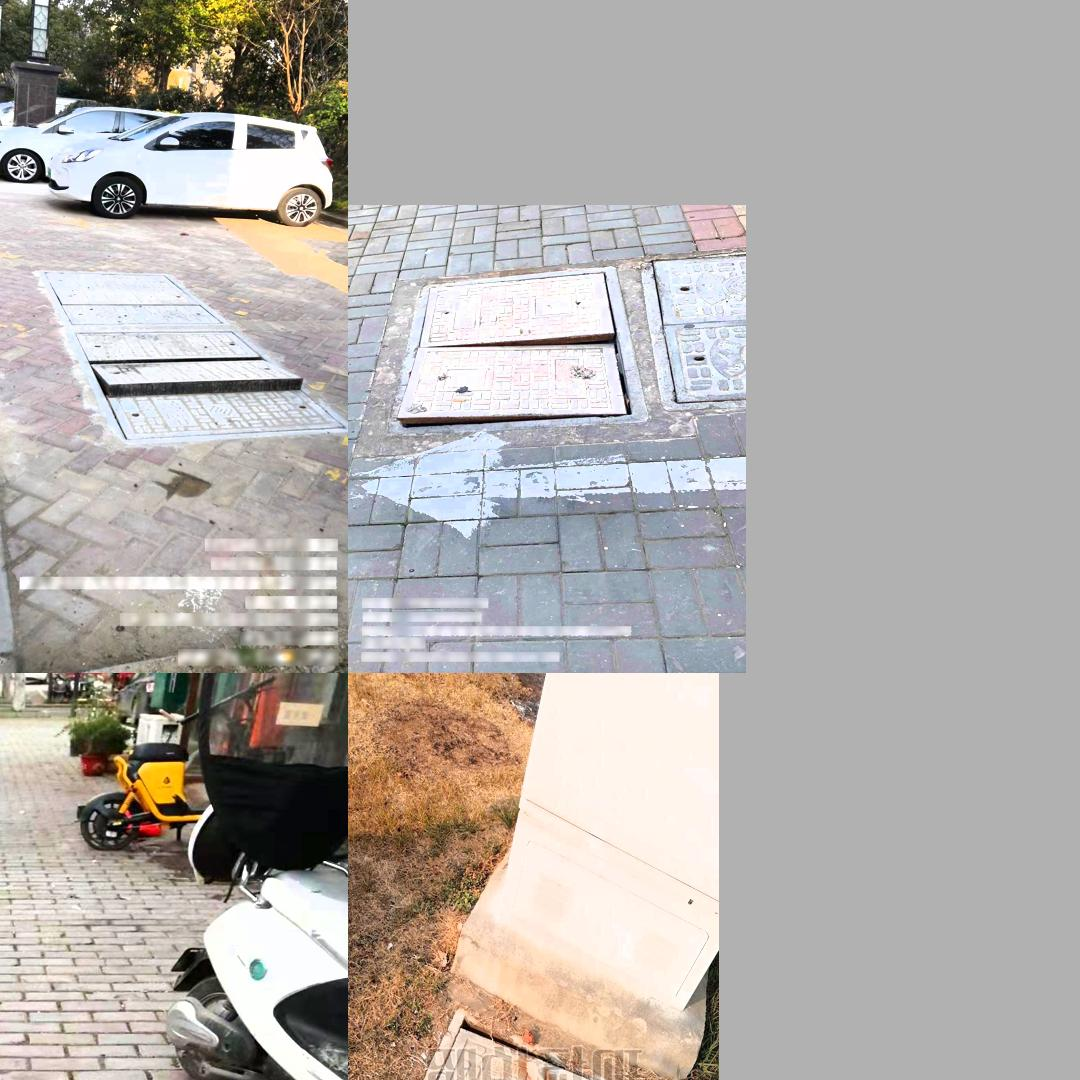good: (637, 250, 741, 412), (40, 267, 224, 327)
uncovered: (389, 265, 649, 431), (69, 329, 347, 444), (408, 1009, 636, 1080)
